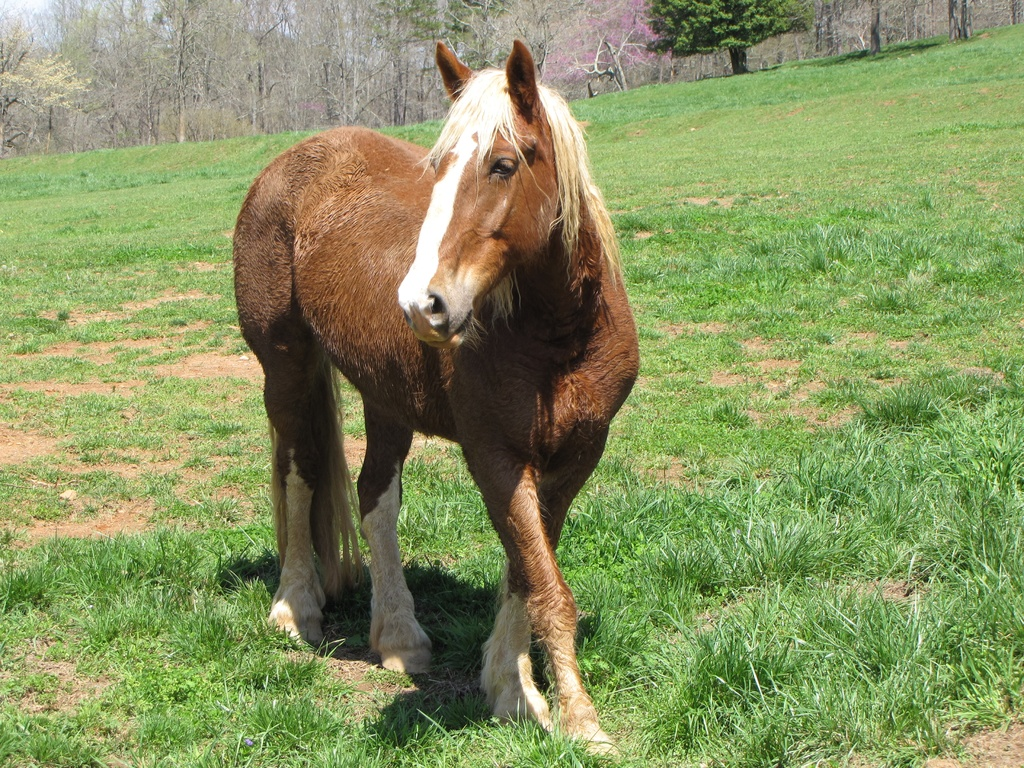horse: (231, 37, 643, 763)
